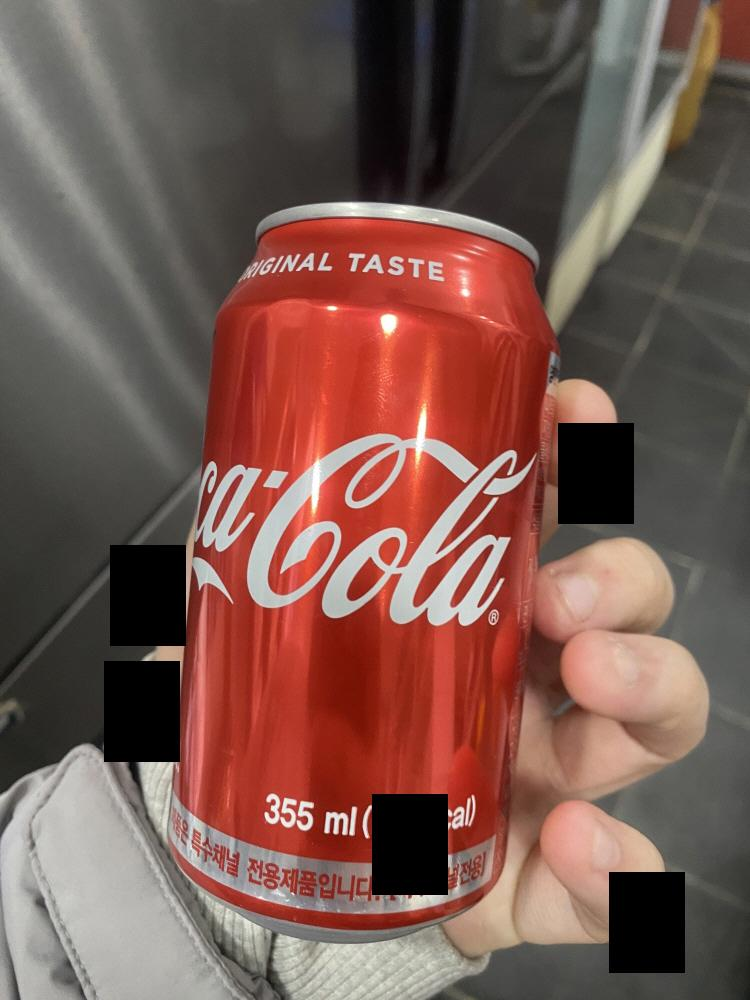cocacola: (169, 192, 555, 947)
